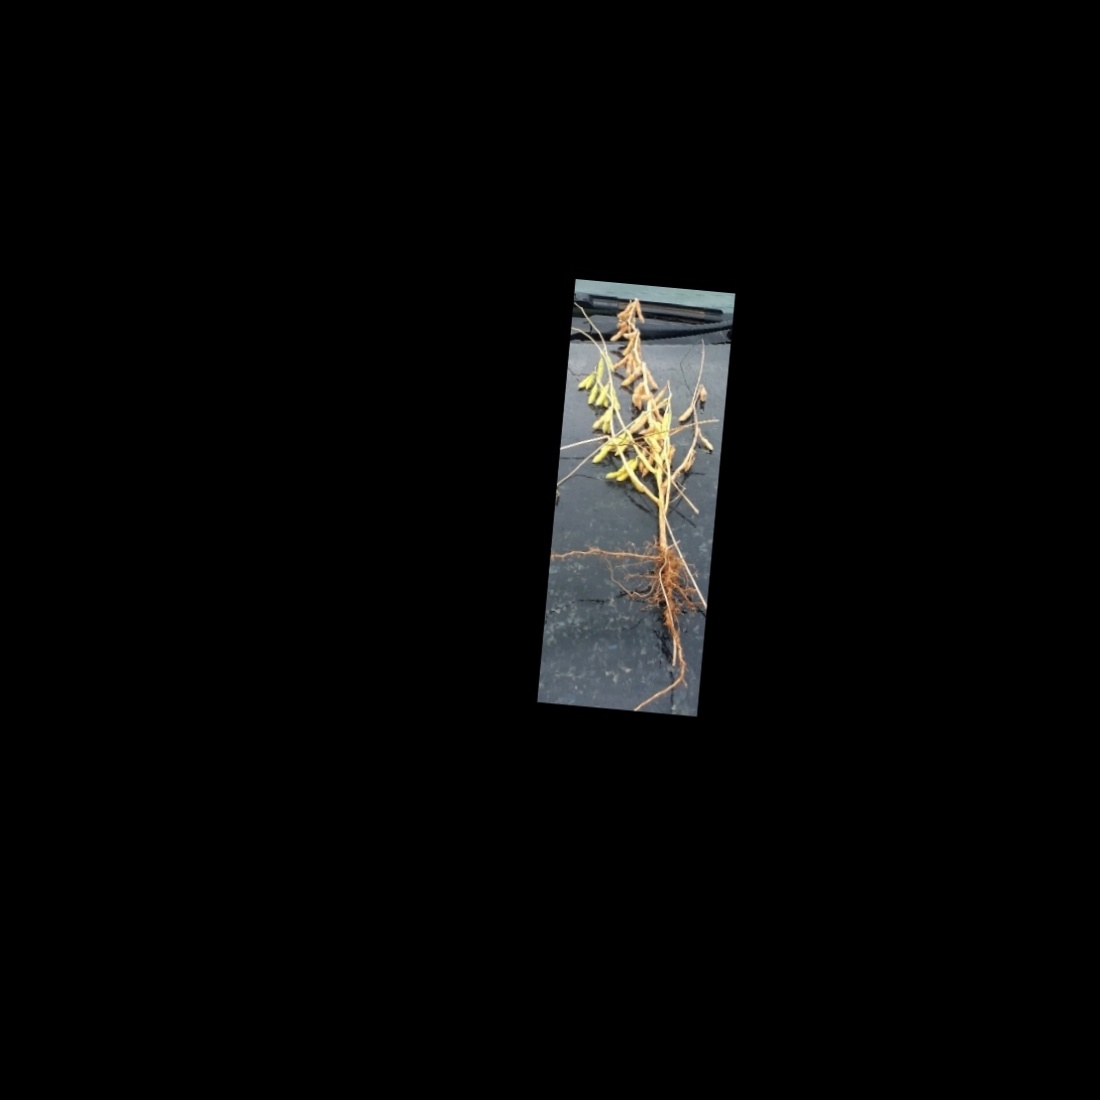pod: (589, 439, 613, 467), (618, 364, 644, 388), (694, 430, 715, 453), (576, 370, 596, 391), (675, 404, 696, 424), (586, 380, 600, 407), (633, 298, 646, 325)
soy: (547, 286, 730, 706)
